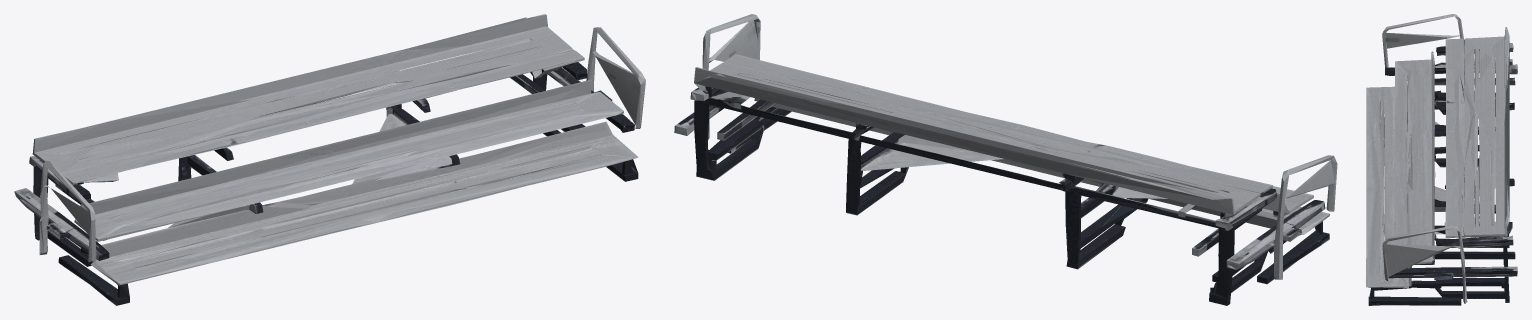
Rendered from bleacher_hall.glb.
3 views of the same model, side by side, from view 1: azimuth 30°, elevation 25°; view 2: azimuth 150°, elevation 25°; view 3: azimuth 270°, elevation 25° (orthographic). The views are drawn at different scales.
Bounding box in the file's own units: 8 × 1.5 × 2.4.
Materials: 1 (1 with a texture image).
